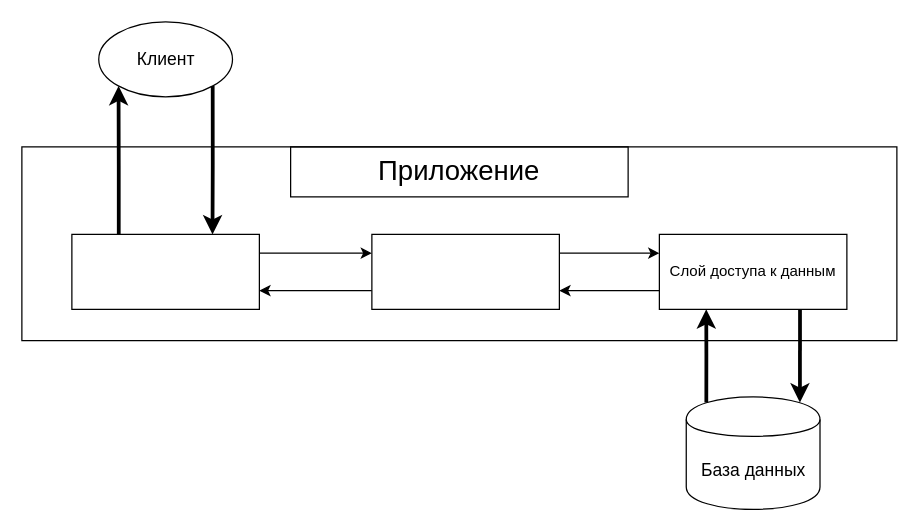
Some shapes in this 919 by 531 pixel diagram are drawn without their labels. Each missing label, with the centre of its shape:
"Слой бизнес-логики" goes at point 465,271.
"Слой представления" goes at point 165,271.
